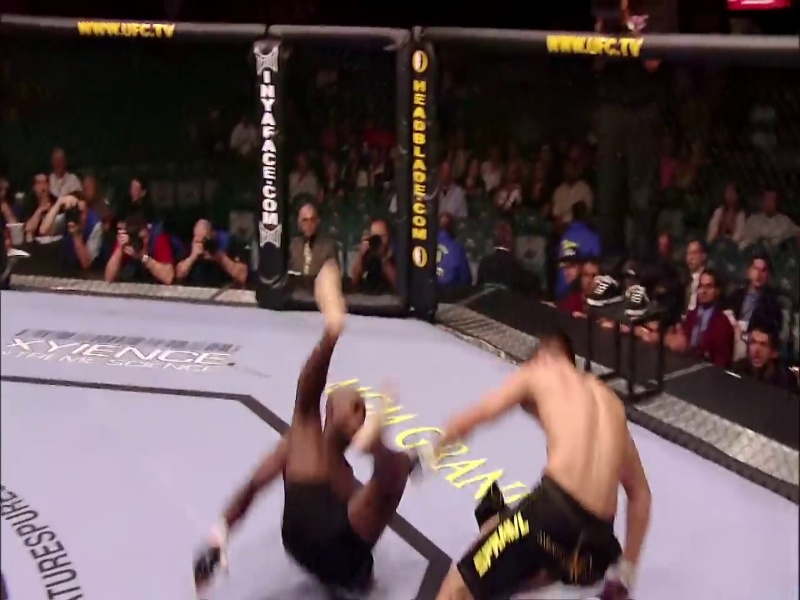fighter: (185, 261, 420, 600), (407, 329, 667, 600)
